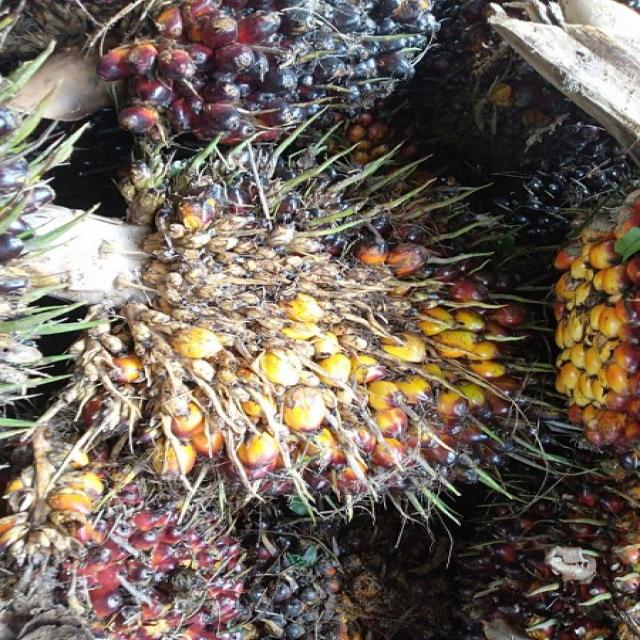fraksi 00: (87, 138, 548, 516)
